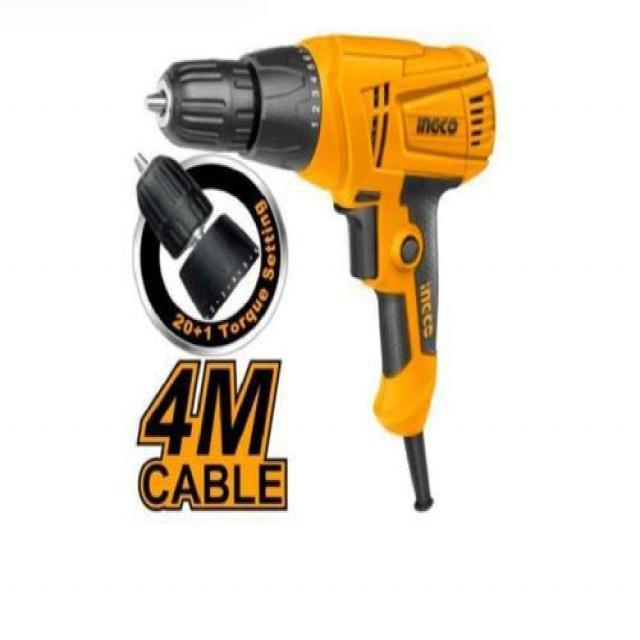drill: (145, 34, 498, 513), (134, 152, 214, 261)
